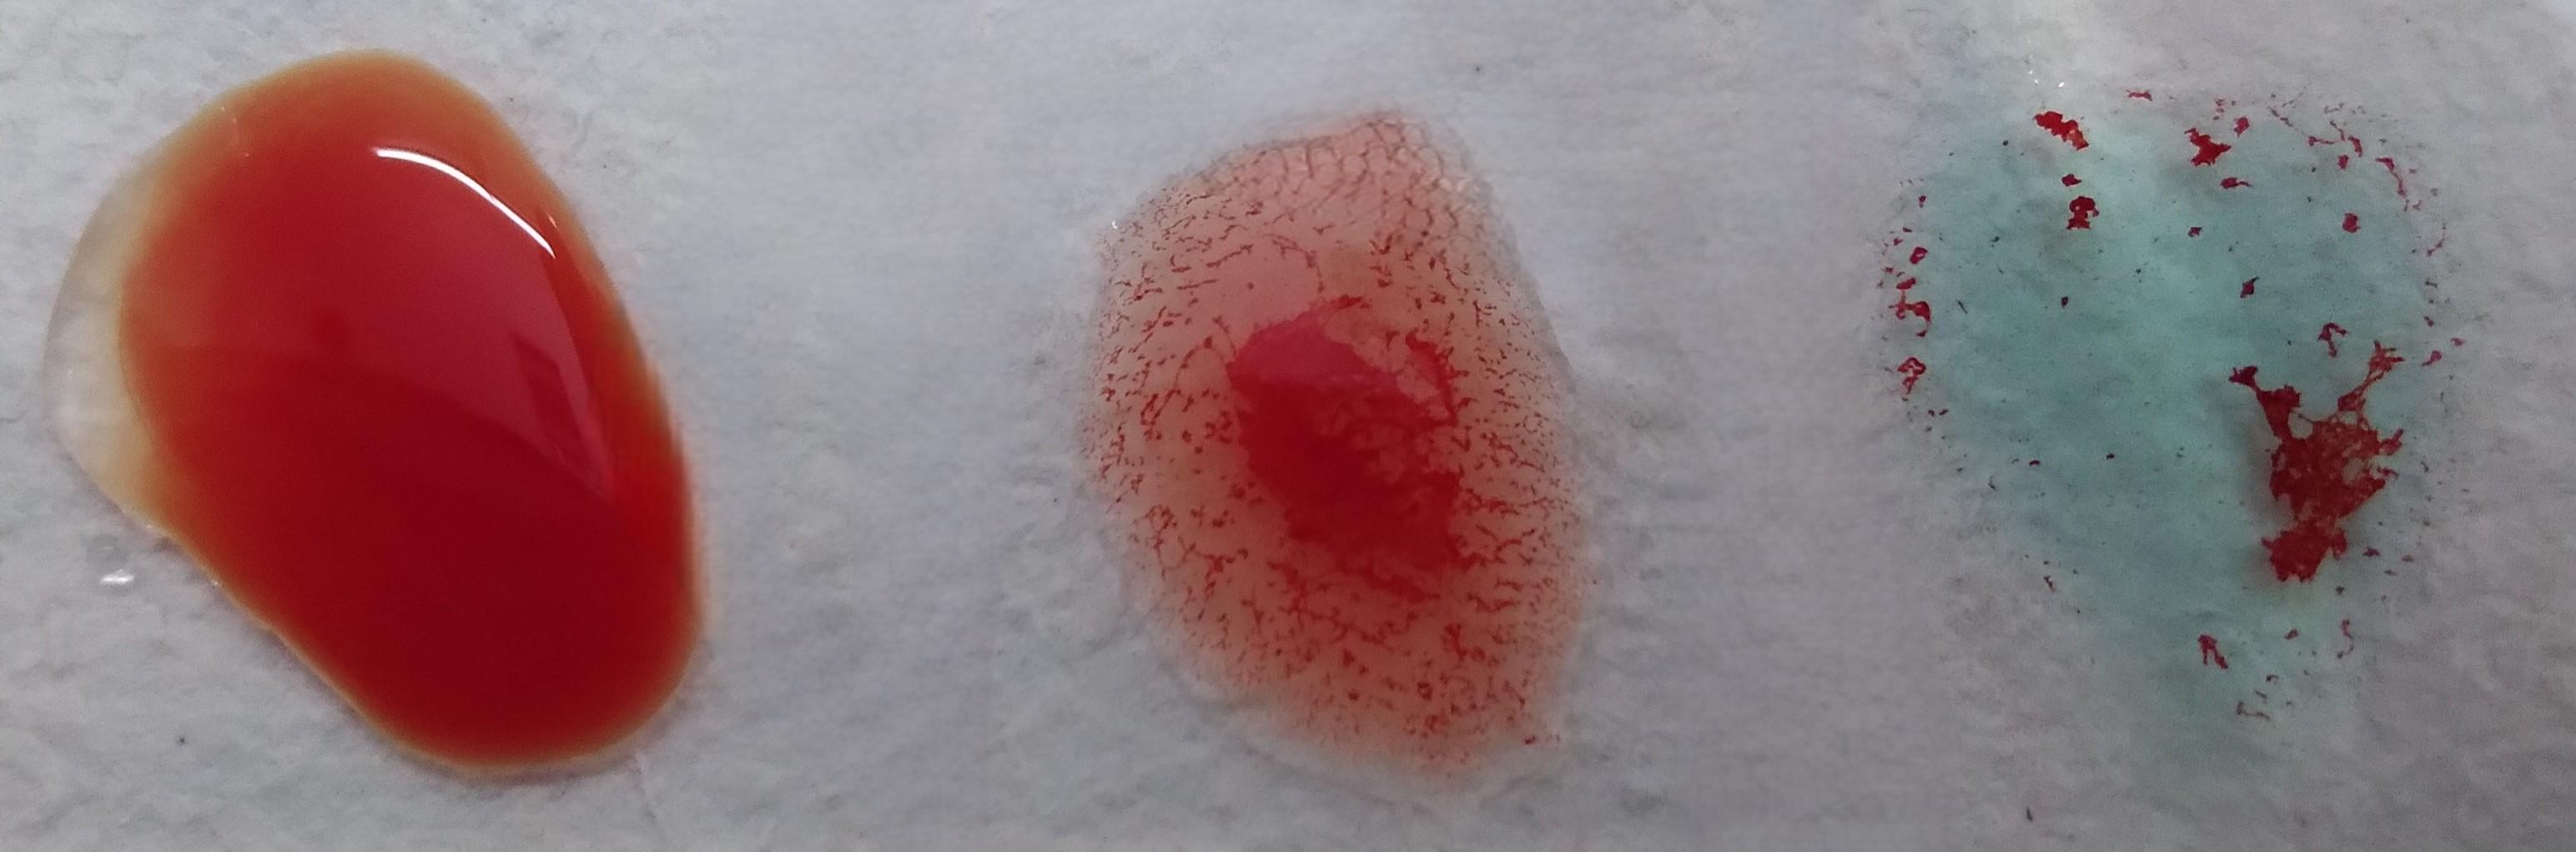A: (1870, 79, 2443, 799)
D: (1102, 115, 1564, 742)
